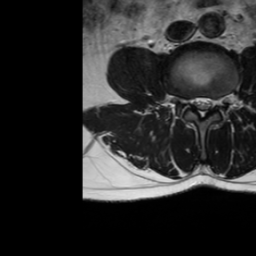CCS_normal: (199, 91, 205, 122)
LFS_stenosis: (213, 92, 219, 114)
LLS_normal: (205, 93, 212, 114)
RFS_stenosis: (185, 93, 193, 113)
RLS_normal: (192, 91, 199, 115)
